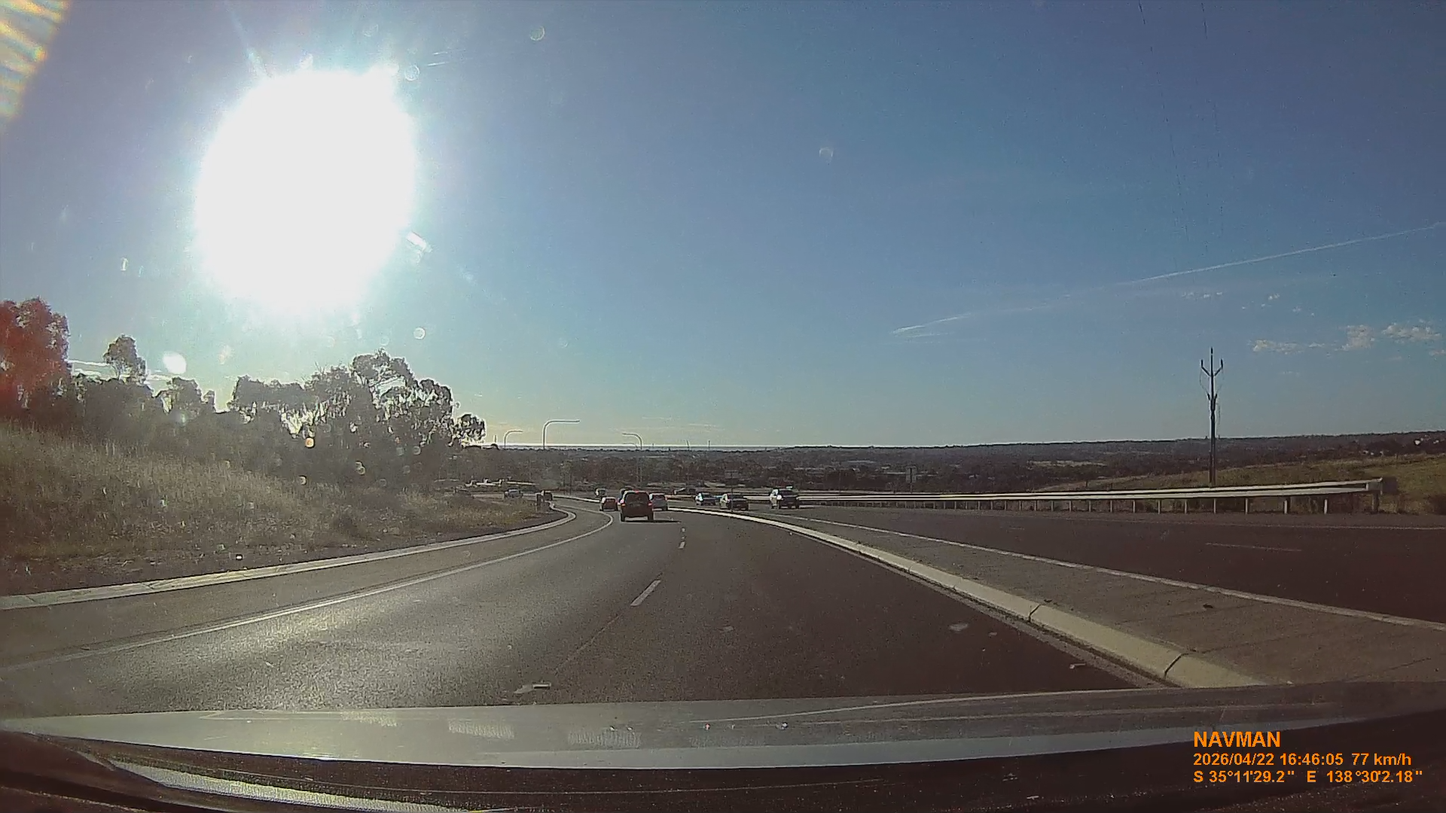road barriers: (799, 480, 1384, 514)
